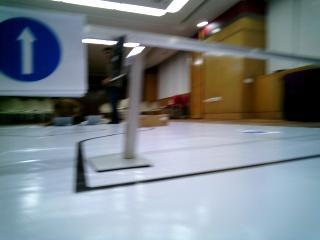straight: (0, 13, 82, 91)
